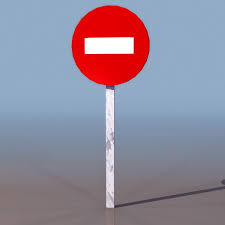No entry: (71, 4, 150, 86)
